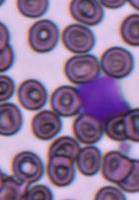L: (75, 74, 129, 123)
